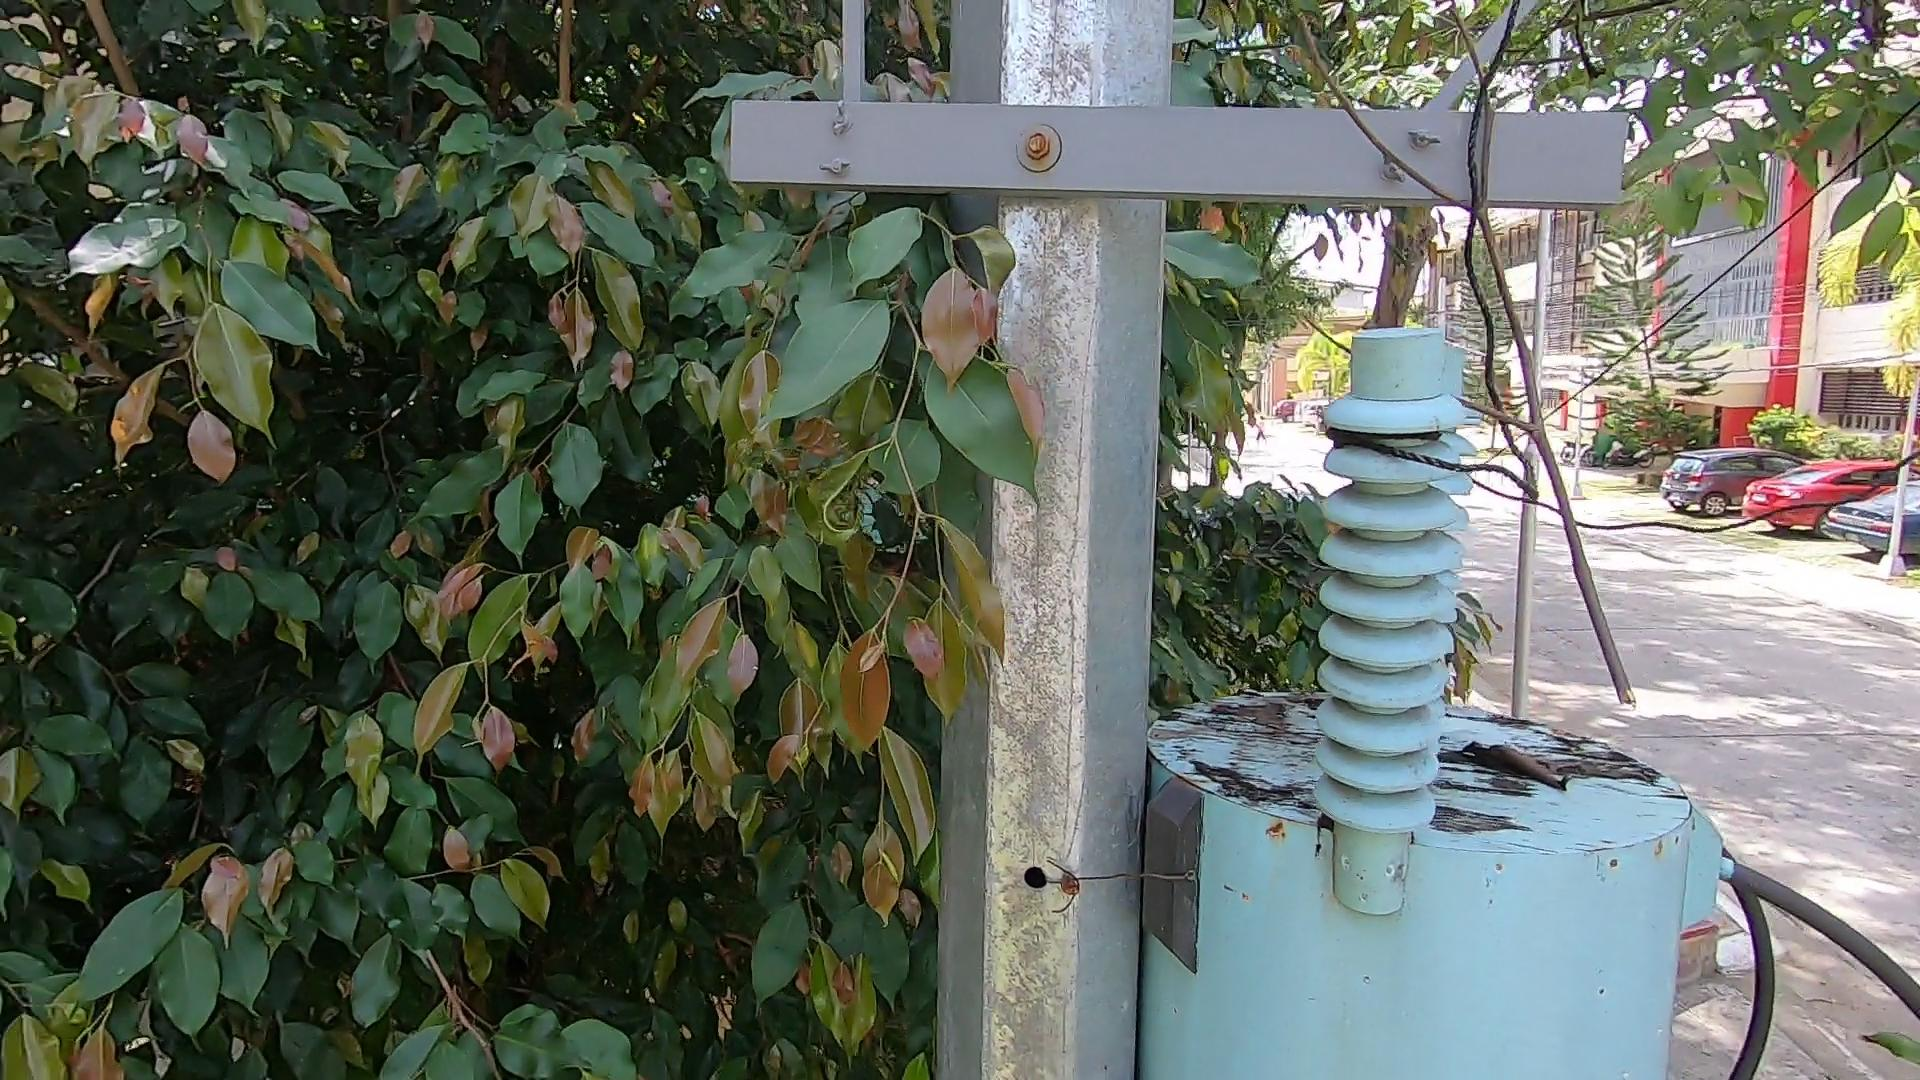leaf: (1461, 723, 1571, 794)
tree branch: (1265, 25, 1669, 694)
